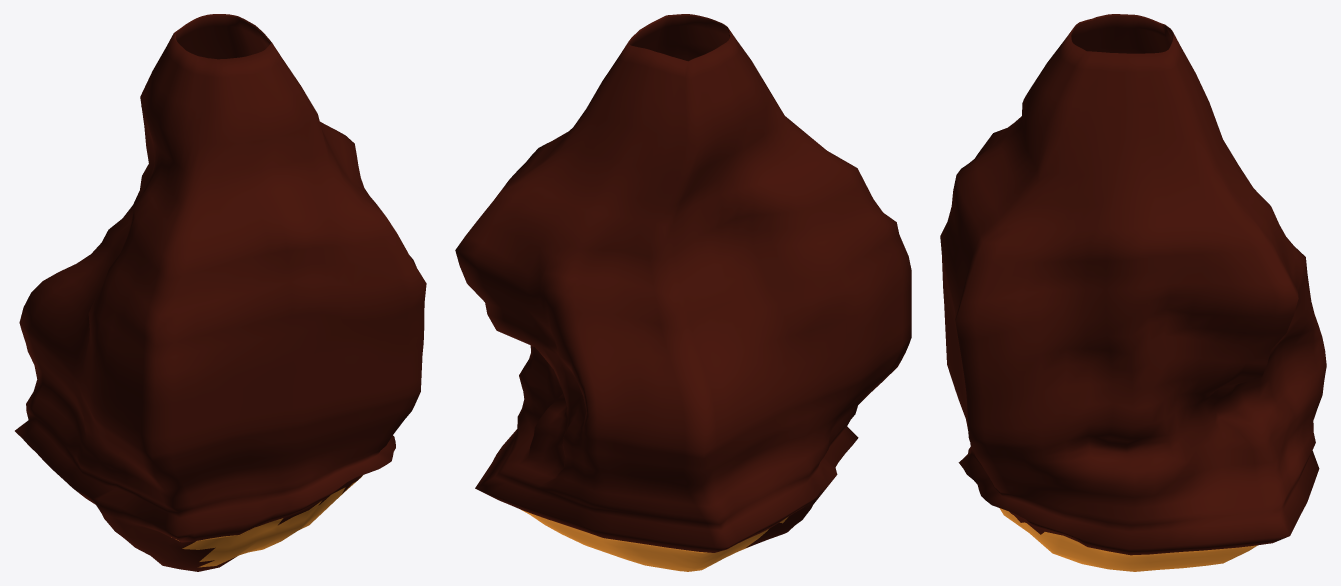
The model's file is AshenRuinsLV3V2.2.fbx.
3 views of the same model, side by side, from view 1: azimuth 30°, elevation 25°; view 2: azimuth 150°, elevation 25°; view 3: azimuth 270°, elevation 25° (orthographic). The views are drawn at different scales.
Visible parts, largest first — view 1: Plane.133; view 2: Plane.133; view 3: Plane.133.
Boxes of the visible parts, left/top/right/bottom form: Plane.133: left=15, top=14, right=426, bottom=571; Plane.133: left=455, top=14, right=911, bottom=571; Plane.133: left=940, top=14, right=1326, bottom=571.
Size of the model in its own units: 14975 by 23013 by 15573.
